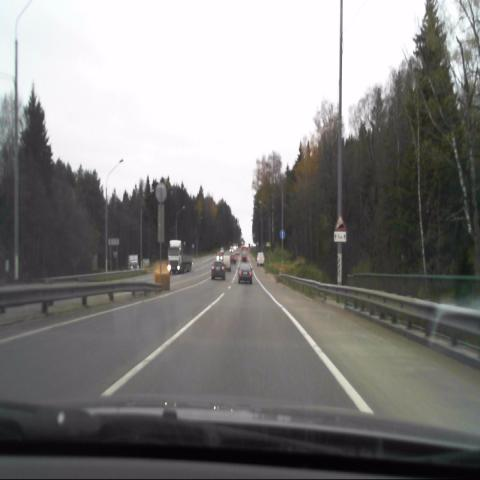1_14: (334, 214, 347, 231)
